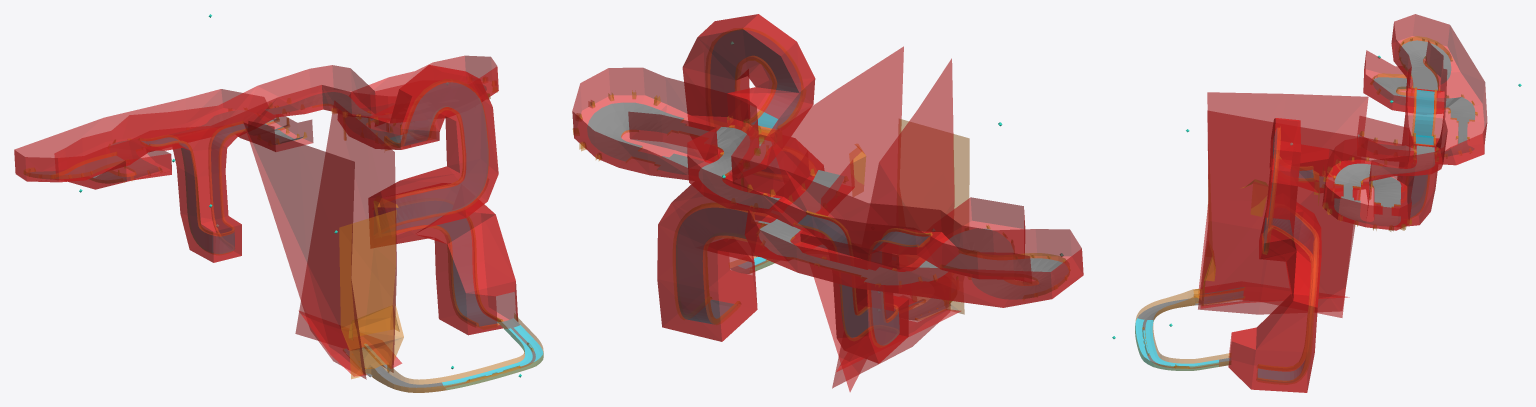
Rendered from Electron (Complete).obj.
3 views of the same model, side by side, from view 1: azimuth 30°, elevation 25°; view 2: azimuth 150°, elevation 25°; view 3: azimuth 270°, elevation 25° (orthographic). The views are drawn at different scales.
Visible parts, largest first — view 1: COL_reset02, COL_reset01, COL_wall01, COL_maglev01, COL_track01, COL_maglev02, COL_wall04, COL_track03, COL_wall05, COL_track02, COL_wall02, COL_blasterpadtracka (+1 smaller); view 2: COL_reset02, COL_reset01, COL_track01, COL_maglev01, COL_track03, COL_wall01, COL_maglev02, COL_wall04, COL_wall02, COL_wall05, COL_wall03; view 3: COL_reset02, COL_reset01, COL_track01, COL_track03, COL_wall01, COL_wall04, COL_maglev02, COL_maglev01, COL_wall02, COL_track02, COL_wall03, COL_blasterpadtracka (+2 smaller).
Boxes of the visible parts, left/top/right/bottom form: COL_reset02: left=14, top=86, right=401, bottom=379; COL_reset01: left=257, top=55, right=517, bottom=335; COL_wall01: left=339, top=196, right=543, bottom=392; COL_maglev01: left=390, top=82, right=497, bottom=325; COL_track01: left=25, top=110, right=391, bottom=377; COL_maglev02: left=142, top=124, right=245, bottom=253; COL_wall04: left=384, top=79, right=503, bottom=329; COL_track03: left=265, top=85, right=486, bottom=143; COL_wall05: left=139, top=117, right=289, bottom=254; COL_track02: left=349, top=347, right=446, bottom=392; COL_wall02: left=23, top=98, right=307, bottom=182; COL_blasterpadtracka: left=442, top=328, right=532, bottom=386; COL_reset02: left=744, top=46, right=1083, bottom=391; COL_reset01: left=572, top=14, right=824, bottom=341; COL_track01: left=754, top=170, right=1068, bottom=318; COL_maglev01: left=676, top=30, right=800, bottom=323; COL_track03: left=587, top=102, right=780, bottom=208; COL_wall01: left=729, top=119, right=969, bottom=320; COL_maglev02: left=798, top=215, right=929, bottom=345; COL_wall04: left=673, top=28, right=805, bottom=324; COL_wall02: left=731, top=168, right=1070, bottom=300; COL_wall05: left=752, top=210, right=932, bottom=347; COL_wall03: left=572, top=91, right=773, bottom=185; COL_reset02: left=1198, top=14, right=1487, bottom=317; COL_reset01: left=1228, top=118, right=1447, bottom=392; COL_track01: left=1194, top=40, right=1475, bottom=305; COL_track03: left=1319, top=145, right=1434, bottom=226; COL_wall01: left=1135, top=166, right=1268, bottom=370; COL_wall04: left=1256, top=126, right=1318, bottom=384; COL_maglev02: left=1410, top=89, right=1434, bottom=217; COL_maglev01: left=1258, top=129, right=1313, bottom=380; COL_wall02: left=1359, top=36, right=1477, bottom=161; COL_track02: left=1137, top=291, right=1243, bottom=319; COL_wall03: left=1313, top=156, right=1411, bottom=231; COL_blasterpadtracka: left=1144, top=320, right=1218, bottom=367.
Bounding box in the file's own units: 484 × 276 × 416.
